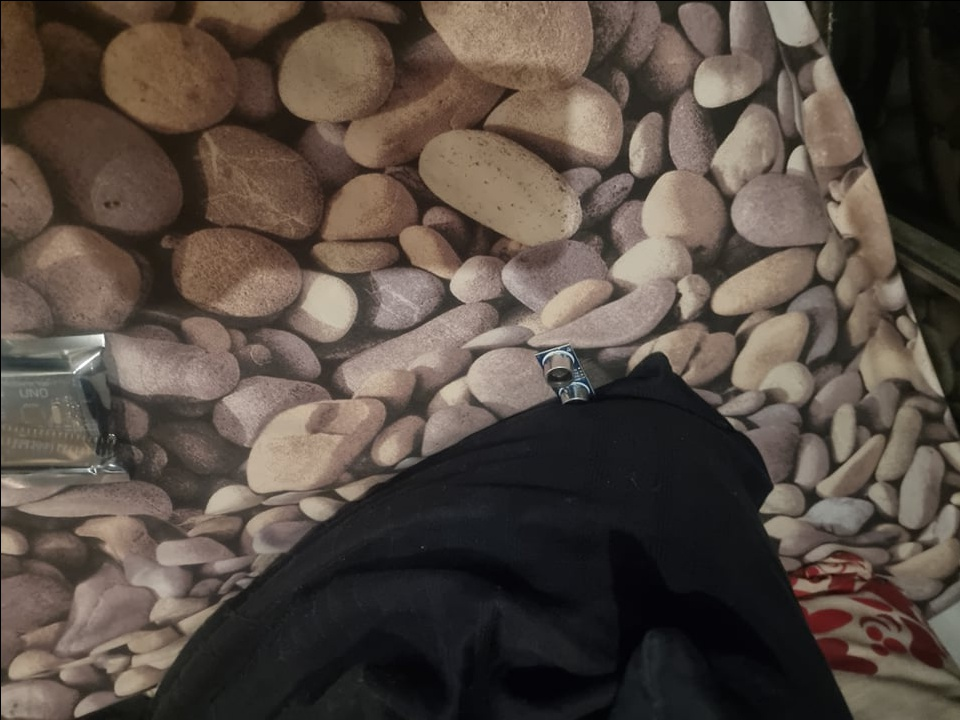SENSOR: (524, 343, 604, 408)
